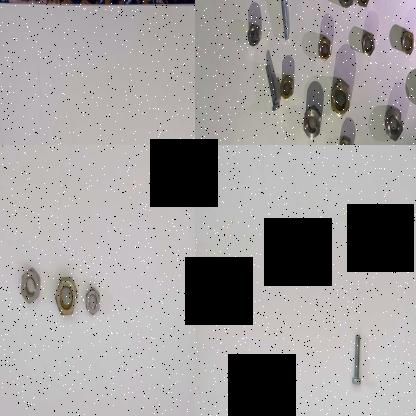Bolts: (263, 61, 281, 117), (349, 332, 366, 389), (278, 0, 293, 46)
NUTS: (52, 276, 80, 320), (18, 264, 42, 308), (380, 103, 404, 145), (328, 77, 350, 119), (302, 104, 321, 142), (84, 284, 102, 322), (315, 37, 334, 63), (279, 74, 295, 102), (359, 30, 375, 58), (400, 27, 414, 59), (245, 22, 262, 46), (335, 0, 359, 8), (337, 136, 354, 145), (355, 0, 371, 8)
